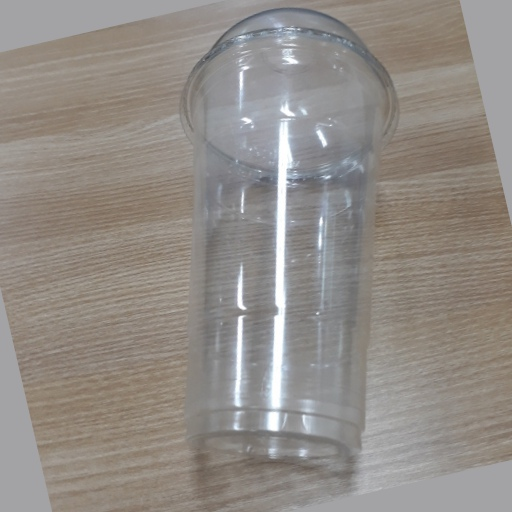Plastic_2: (176, 7, 399, 471)
